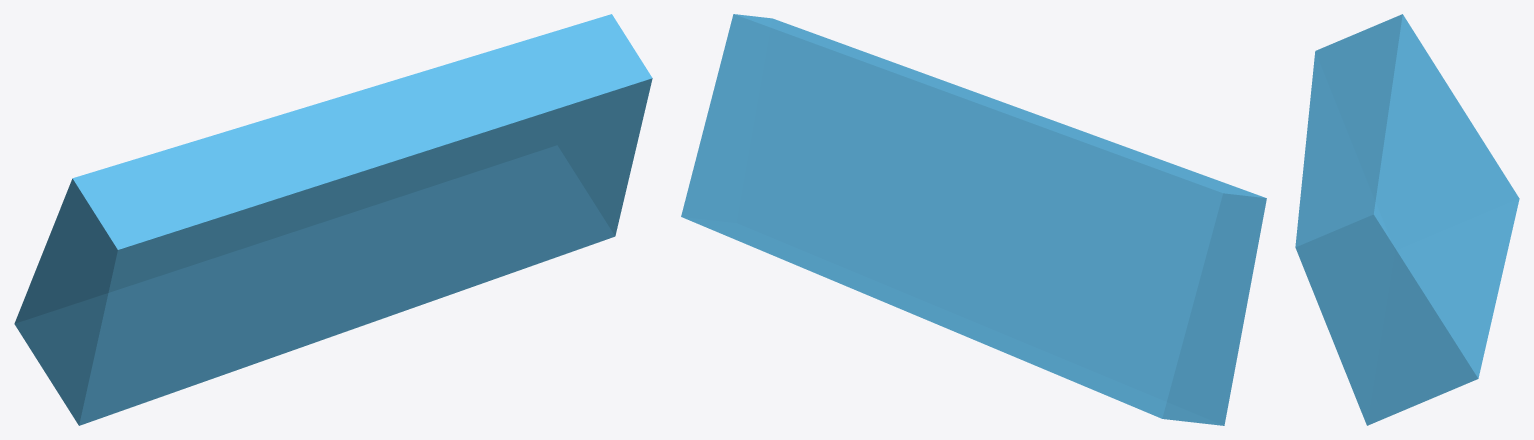
The model's file is Event_420094457_HErechit_81.fbx.
The picture shows the model from 3 angles, left to right: view 1: azimuth 30°, elevation 25°; view 2: azimuth 150°, elevation 25°; view 3: azimuth 270°, elevation 25°; orthographic projection. The views are drawn at different scales.
Parts seen in each view (by area): view 1: Model; view 2: Model; view 3: Model.
Part boxes in pixels (bbox=[...]): Model: bbox=[14, 14, 652, 425]; Model: bbox=[681, 14, 1266, 425]; Model: bbox=[1295, 14, 1519, 425].
Size of the model in its own units: 1.3 by 0.6931 by 0.5002.
